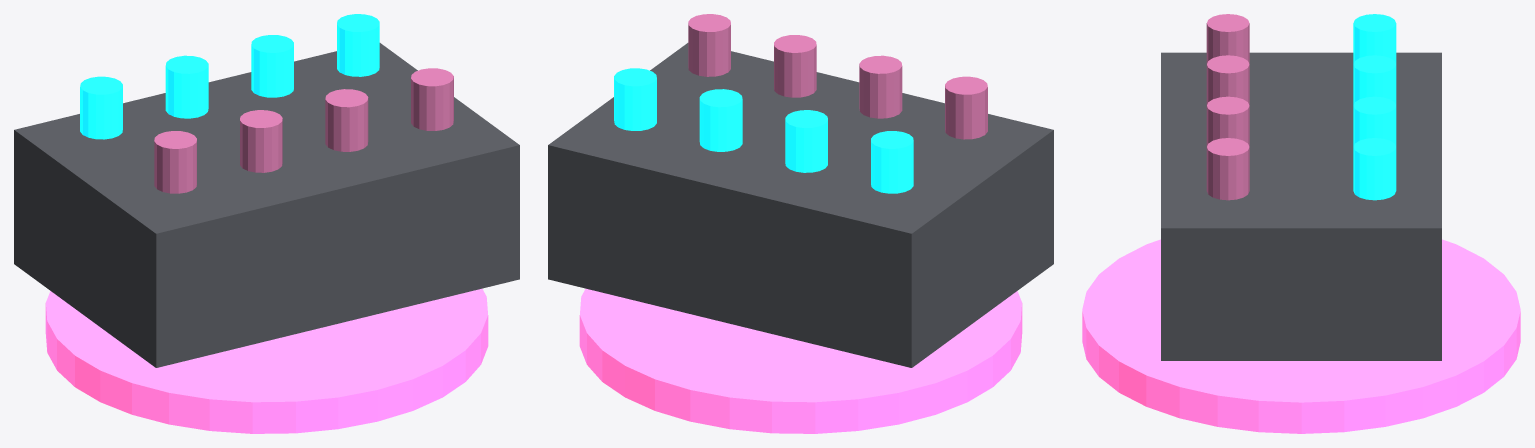
The model's file is music_mixer.glb.
3 views of the same model, side by side, from view 1: azimuth 30°, elevation 25°; view 2: azimuth 150°, elevation 25°; view 3: azimuth 270°, elevation 25° (orthographic).
Visible parts, largest first — view 1: 07_12_Popular_Music_Mixer_part_01, 07_12_Popular_Music_Mixer_ROOT_base, 07_12_Popular_Music_Mixer_part_04, 07_12_Popular_Music_Mixer_part_07, 07_12_Popular_Music_Mixer_part_02, 07_12_Popular_Music_Mixer_part_05, 07_12_Popular_Music_Mixer_part_08, 07_12_Popular_Music_Mixer_part_03, 07_12_Popular_Music_Mixer_part_06, 07_12_Popular_Music_Mixer_part_09; view 2: 07_12_Popular_Music_Mixer_part_01, 07_12_Popular_Music_Mixer_ROOT_base, 07_12_Popular_Music_Mixer_part_05, 07_12_Popular_Music_Mixer_part_06, 07_12_Popular_Music_Mixer_part_03, 07_12_Popular_Music_Mixer_part_04, 07_12_Popular_Music_Mixer_part_09, 07_12_Popular_Music_Mixer_part_02, 07_12_Popular_Music_Mixer_part_07, 07_12_Popular_Music_Mixer_part_08; view 3: 07_12_Popular_Music_Mixer_part_01, 07_12_Popular_Music_Mixer_ROOT_base, 07_12_Popular_Music_Mixer_part_08, 07_12_Popular_Music_Mixer_part_09, 07_12_Popular_Music_Mixer_part_02, 07_12_Popular_Music_Mixer_part_03, 07_12_Popular_Music_Mixer_part_04, 07_12_Popular_Music_Mixer_part_05, 07_12_Popular_Music_Mixer_part_06, 07_12_Popular_Music_Mixer_part_07.
Part boxes in pixels (x1,y1,x2,y2): 07_12_Popular_Music_Mixer_part_01: [14, 43, 519, 367]; 07_12_Popular_Music_Mixer_ROOT_base: [45, 288, 488, 433]; 07_12_Popular_Music_Mixer_part_04: [165, 55, 208, 118]; 07_12_Popular_Music_Mixer_part_07: [325, 89, 368, 151]; 07_12_Popular_Music_Mixer_part_02: [80, 76, 122, 139]; 07_12_Popular_Music_Mixer_part_05: [240, 110, 282, 172]; 07_12_Popular_Music_Mixer_part_08: [337, 14, 379, 76]; 07_12_Popular_Music_Mixer_part_03: [154, 131, 196, 193]; 07_12_Popular_Music_Mixer_part_06: [251, 35, 293, 97]; 07_12_Popular_Music_Mixer_part_09: [411, 68, 453, 130]; 07_12_Popular_Music_Mixer_part_01: [548, 43, 1053, 367]; 07_12_Popular_Music_Mixer_ROOT_base: [579, 288, 1022, 433]; 07_12_Popular_Music_Mixer_part_05: [859, 55, 902, 118]; 07_12_Popular_Music_Mixer_part_06: [699, 89, 742, 151]; 07_12_Popular_Music_Mixer_part_03: [945, 76, 987, 139]; 07_12_Popular_Music_Mixer_part_04: [785, 110, 827, 172]; 07_12_Popular_Music_Mixer_part_09: [688, 14, 730, 76]; 07_12_Popular_Music_Mixer_part_02: [871, 131, 913, 193]; 07_12_Popular_Music_Mixer_part_07: [774, 35, 816, 97]; 07_12_Popular_Music_Mixer_part_08: [614, 68, 656, 130]; 07_12_Popular_Music_Mixer_part_01: [1161, 52, 1441, 360]; 07_12_Popular_Music_Mixer_ROOT_base: [1082, 239, 1520, 433]; 07_12_Popular_Music_Mixer_part_08: [1353, 138, 1396, 200]; 07_12_Popular_Music_Mixer_part_09: [1206, 138, 1249, 200]; 07_12_Popular_Music_Mixer_part_02: [1353, 14, 1396, 63]; 07_12_Popular_Music_Mixer_part_03: [1206, 14, 1249, 63]; 07_12_Popular_Music_Mixer_part_04: [1353, 55, 1396, 105]; 07_12_Popular_Music_Mixer_part_05: [1206, 55, 1249, 105]; 07_12_Popular_Music_Mixer_part_06: [1353, 96, 1396, 146]; 07_12_Popular_Music_Mixer_part_07: [1206, 96, 1249, 146].
Size of the model in its own units: 0.76 by 0.49 by 0.76.
